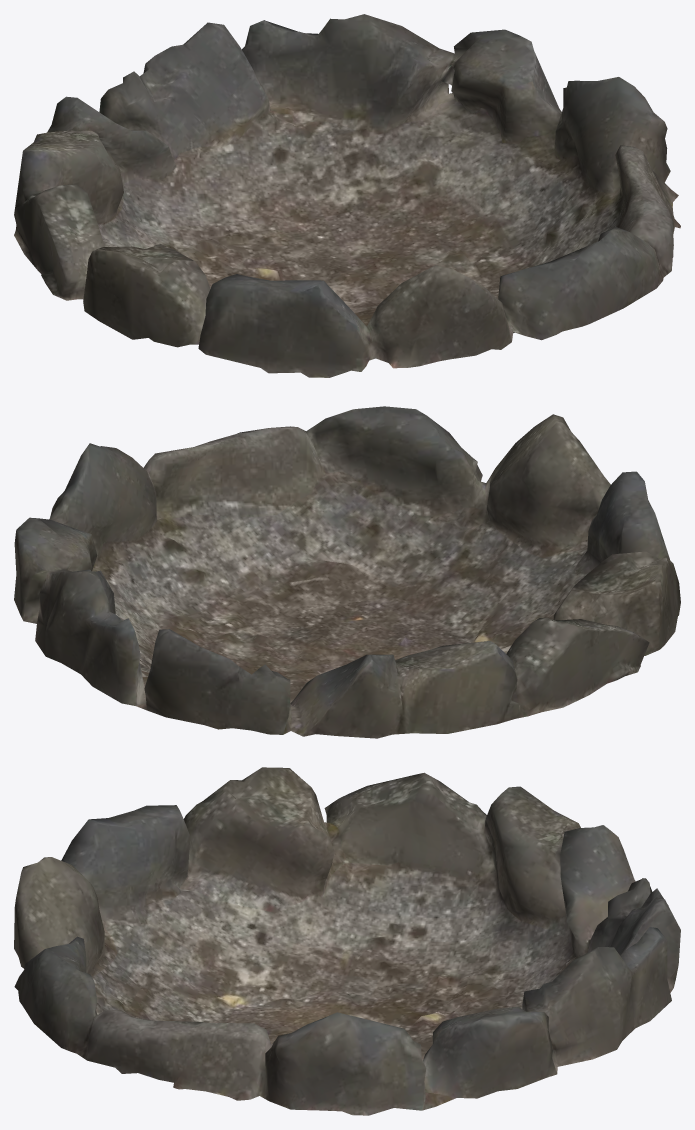
The model's file is stone_fire_pit.glb.
3 views of the same model, one above another, from view 1: azimuth 30°, elevation 25°; view 2: azimuth 150°, elevation 25°; view 3: azimuth 270°, elevation 25° (orthographic).
Parts seen in each view (by area): view 1: stone_fire_pit; view 2: stone_fire_pit; view 3: stone_fire_pit.
Boxes of the visible parts, <box> form: stone_fire_pit: <box>14,14,680,377</box>; stone_fire_pit: <box>14,406,680,738</box>; stone_fire_pit: <box>14,767,680,1115</box>.
Bounding box in the file's own units: 1.45 × 0.3883 × 1.43.
1 material, 1 textured.
